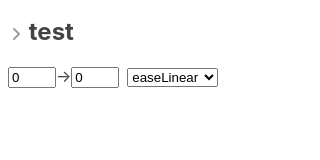
Options › click header twice, then no component
Click the heading "test" at (40, 31), box [6,17,74,46]
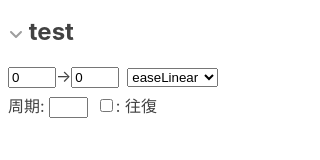
Click the heading "test" at (40, 31), box [6,17,74,46]
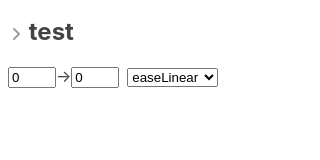
Expected: the element with test id "from-to-options" is gone
